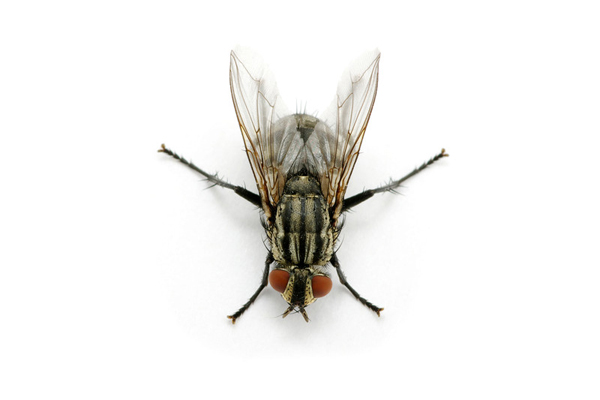phorid fly: (120, 34, 519, 363)
